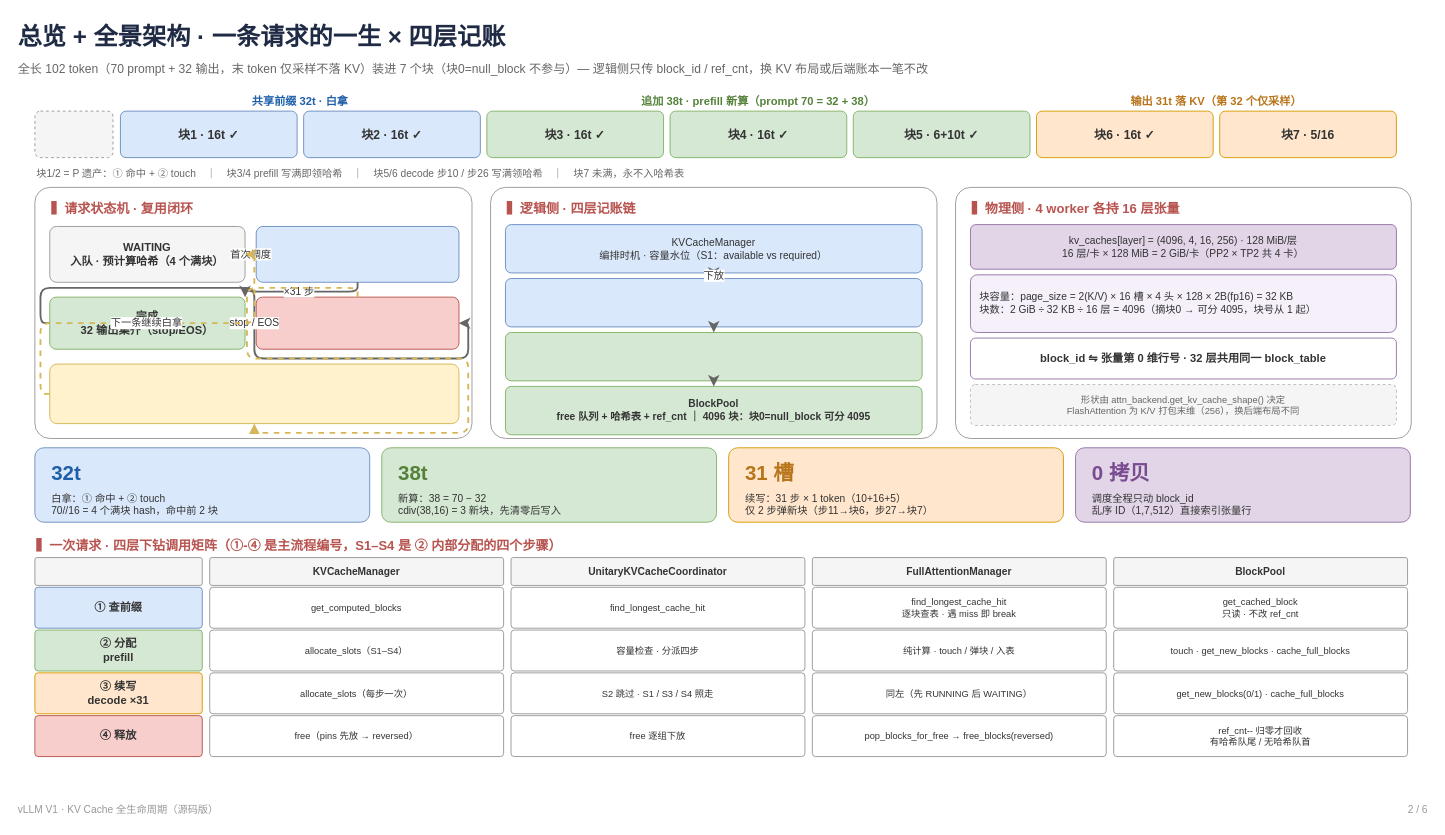
Some shapes in this 1445 by 835 pixel diagram are drawn without their labels. Here are the shapes that lost their labels. From the top down, the centre of each, then its label:
point 73,134: 块0 null_block
point 357,254: RUNNING prefill ①② → decode ③ ×31 步
point 357,322: ④ 释放 free 逆序 7→1 归池
point 713,302: UnitaryKVCacheCoordinator 单组直通 single_type_managers[0] · 组内分派
point 713,356: FullAttentionManager FullAttention 专属算法（容量 / touch / 弹块 / 入表，纯计算）
point 254,393: 带哈希块回池队尾（块7 无哈希插队首） → 下一条同前缀请求 ① 命中 → ② touch 白拿
point 118,571: 阶段 ＼ 层
